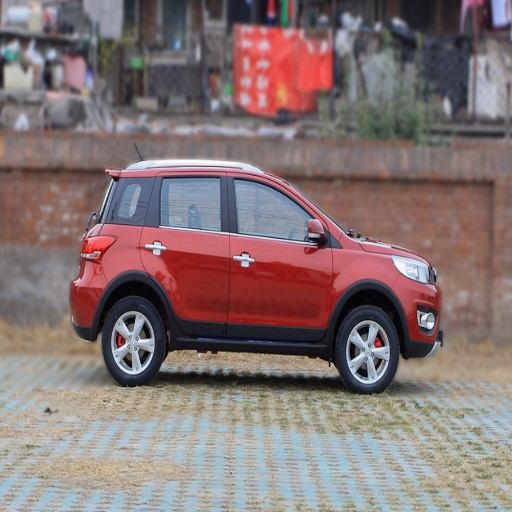back_right_door: (140, 170, 227, 336)
front_right_door: (227, 170, 332, 341)
